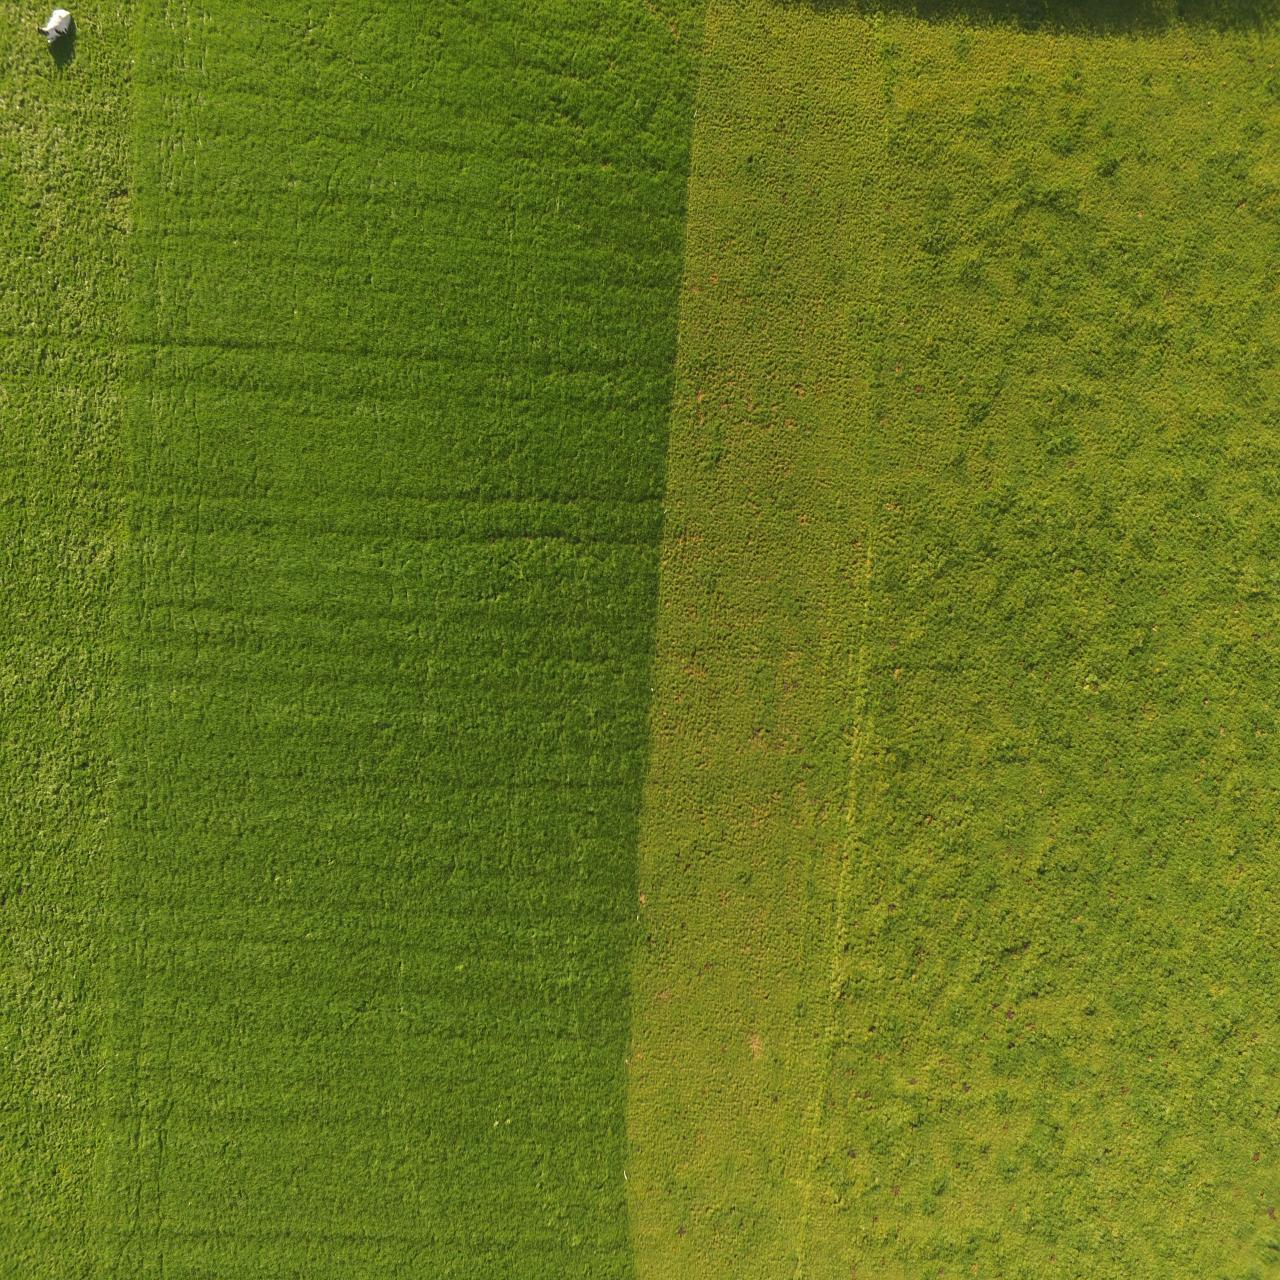cow: (25, 4, 72, 48)
